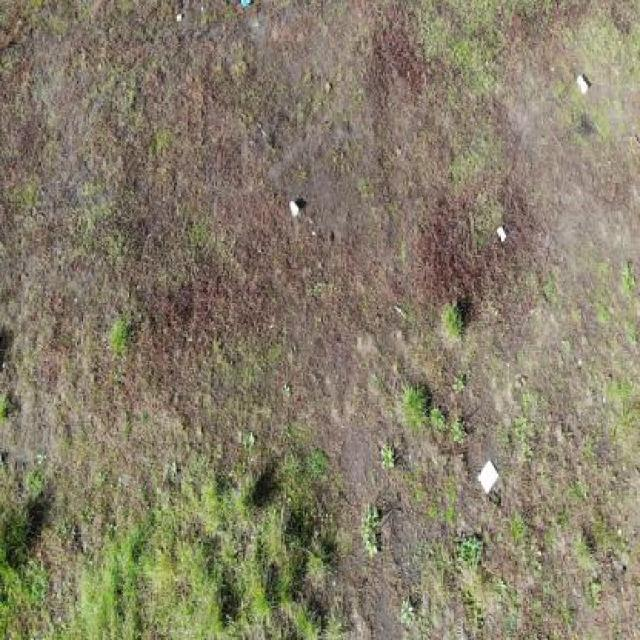Garbage: (475, 459, 500, 497), (575, 74, 589, 95), (496, 225, 508, 242), (289, 200, 300, 217), (241, 0, 252, 9)
